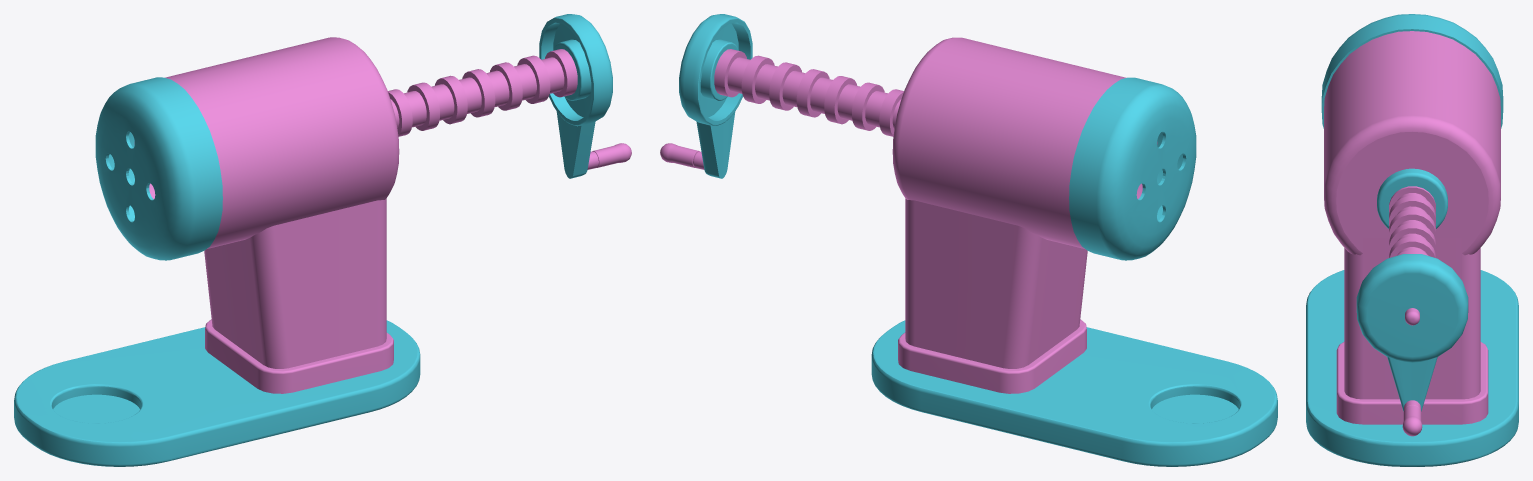
The model's file is noodle_machine.fbx.
3 views of the same model, side by side, from view 1: azimuth 30°, elevation 25°; view 2: azimuth 150°, elevation 25°; view 3: azimuth 270°, elevation 25° (orthographic).
Visible parts, largest first — view 1: pCube7, pCube5, polySurface3, pCylinder25; view 2: pCube7, pCube5, polySurface3, pCylinder25; view 3: pCube7, pCube5, pCylinder25, polySurface3.
Part boxes in pixels (<box>): pCube7: <box>134,37,399,393</box>; pCube5: <box>14,320,420,466</box>; polySurface3: <box>95,77,222,260</box>; pCylinder25: <box>388,14,631,178</box>; pCube7: <box>892,37,1157,393</box>; pCube5: <box>871,320,1277,466</box>; polySurface3: <box>1069,77,1196,260</box>; pCylinder25: <box>660,14,903,178</box>; pCube7: <box>1324,31,1500,424</box>; pCube5: <box>1306,270,1518,466</box>; pCylinder25: <box>1356,186,1468,436</box>; polySurface3: <box>1321,14,1503,128</box>.
Bounding box in the file's own units: 26.24 × 13.59 × 7.99.
